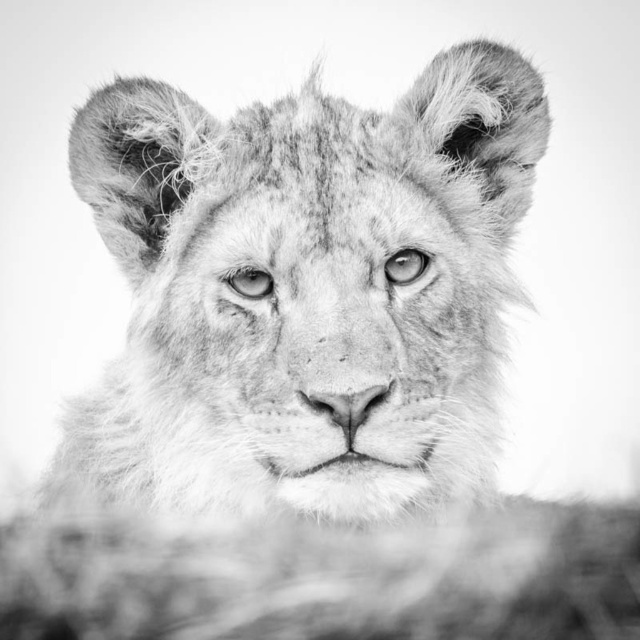Lion: (0, 30, 639, 639)
